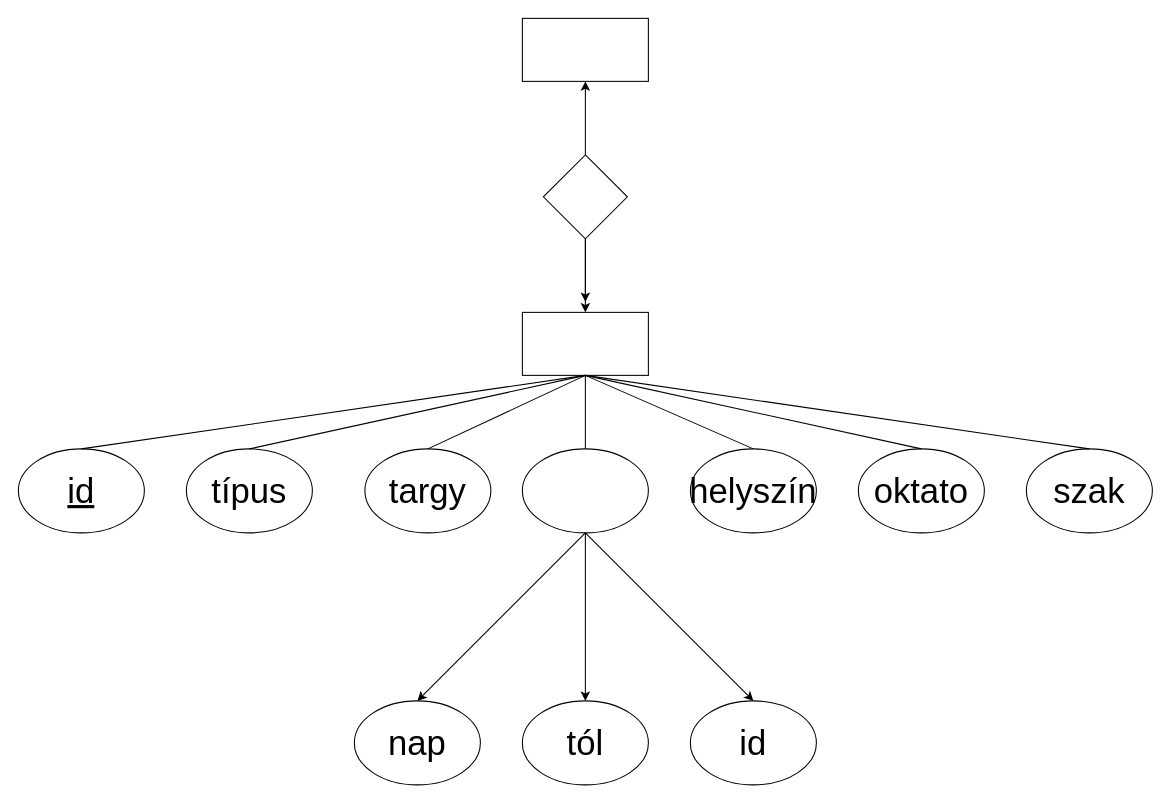
Image size: 1171x803. Some labels were removed from this diagram. Each missing label, with the centre of its shape:
"idopont" goes at point 584,490.
"óra" goes at point 584,343.
"órarend" goes at point 584,49.
